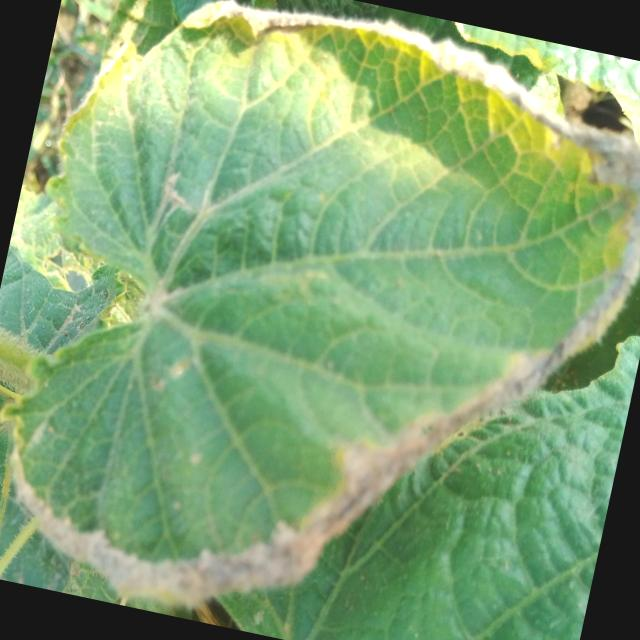cucumber_gummy: (0, 0, 640, 640), (0, 210, 152, 427)
